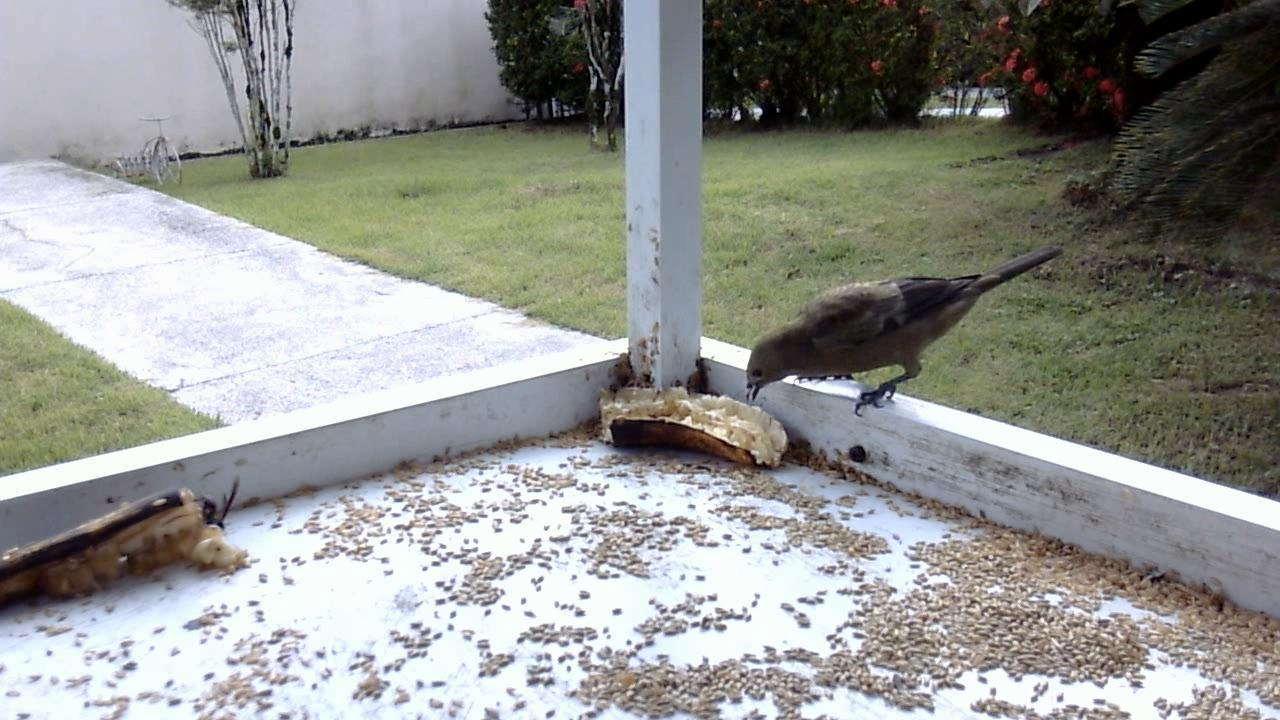sanhaco_do_coqueiro: (744, 248, 1062, 433)
